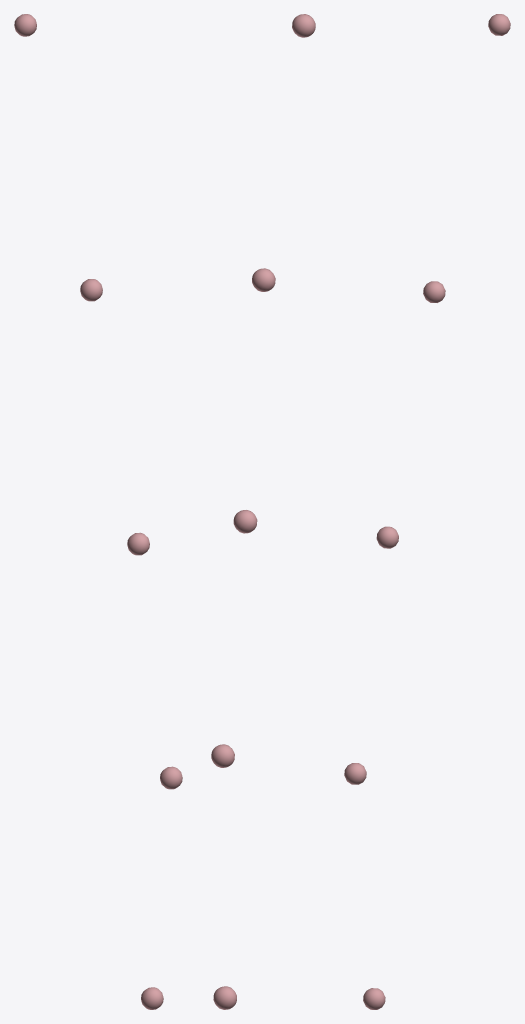
3 renders of one model, left to right at view 1: azimuth 90°, elevation 25°; view 2: azimuth 210°, elevation 25°; view 3: azimuth 270°, elevation 25°, orthographic. The views are drawn at different scales.
Parts seen in each view (by area): view 1: ZA_2388ef2813f27aa9; view 2: ZA_2388ef2813f27aa9; view 3: ZA_2388ef2813f27aa9.
Boxes of the visible parts, <box> form: ZA_2388ef2813f27aa9: <box>14,14,182,1009</box>; ZA_2388ef2813f27aa9: <box>211,14,315,1009</box>; ZA_2388ef2813f27aa9: <box>344,14,510,1009</box>.
Size of the model in its own units: 0.0042 by 0.1241 by 0.0189.
